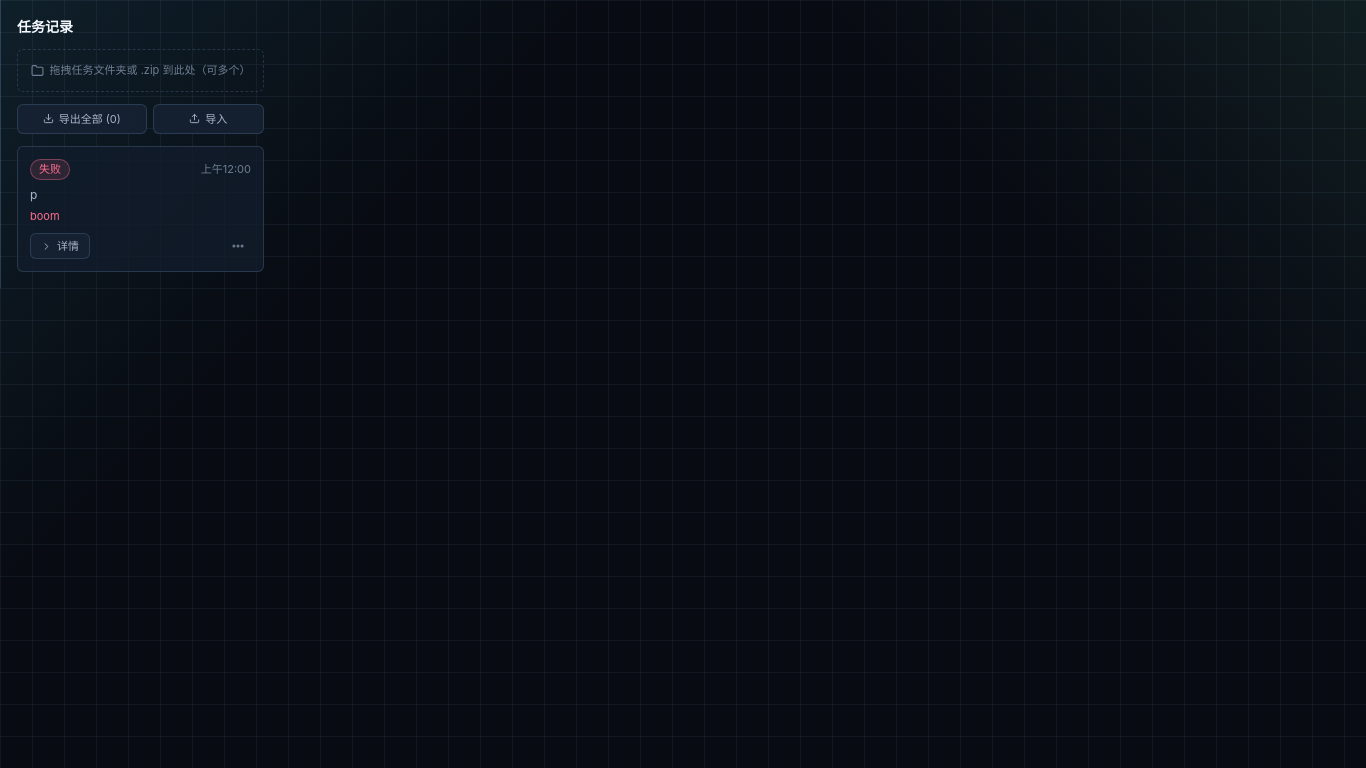
Test: VideoHistory — 详情 展开（prompt 与完整参数） › shows params in 详情 even for failed tasks (not only succeeded)
The image size is (1366, 768).
Step 1. Click the button "详情" → click(60, 246), box top-left (30, 233), bottom-right (90, 259)
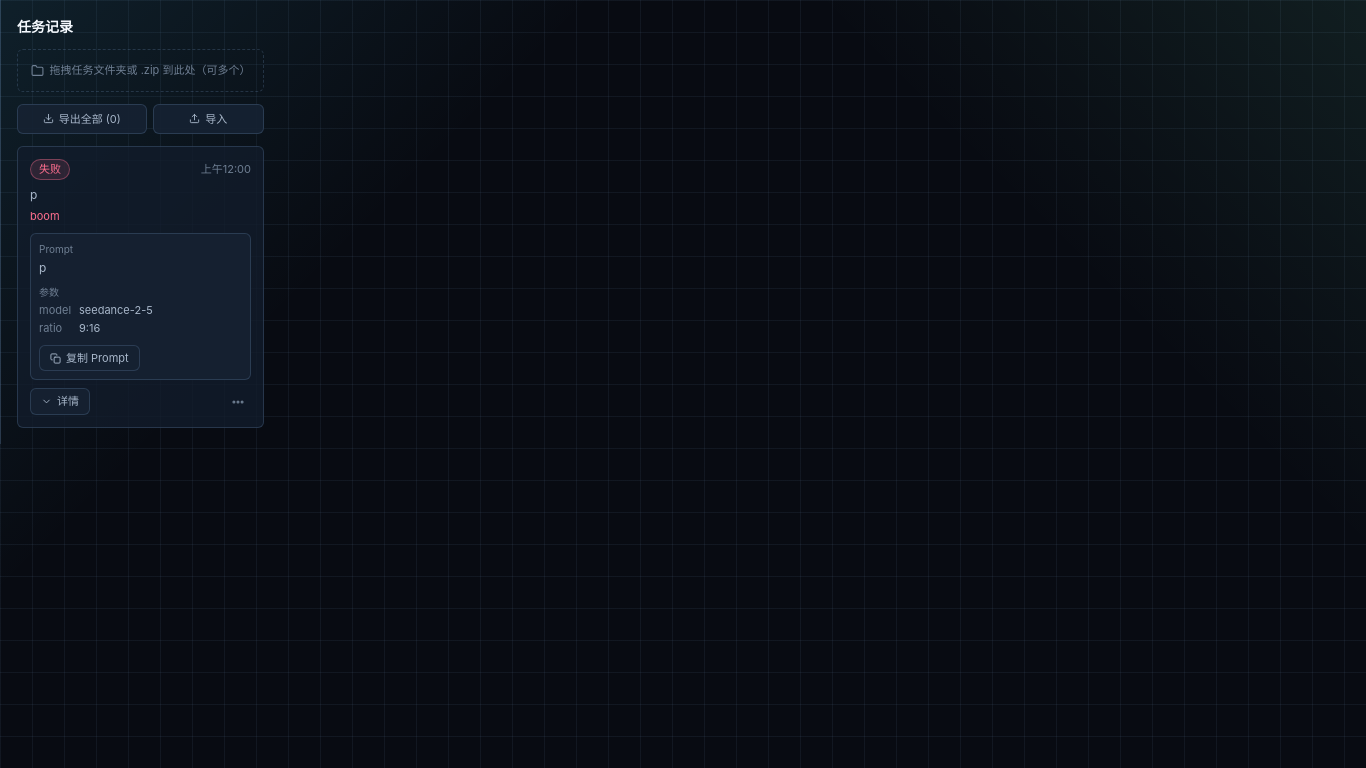
Expected: the text "9:16" is shown, top-left (79, 321), bottom-right (100, 335)
